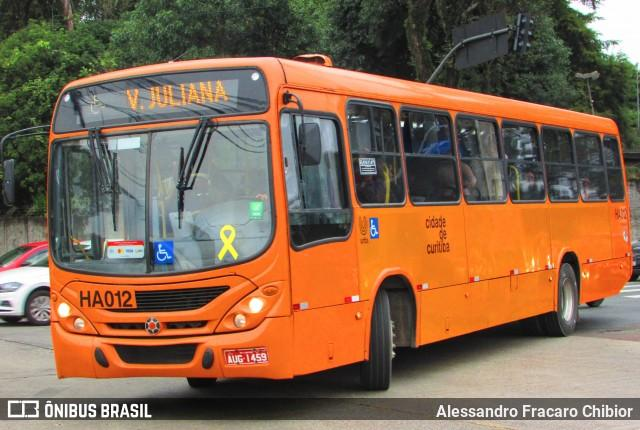V.JULIANA: (118, 75, 231, 118)
